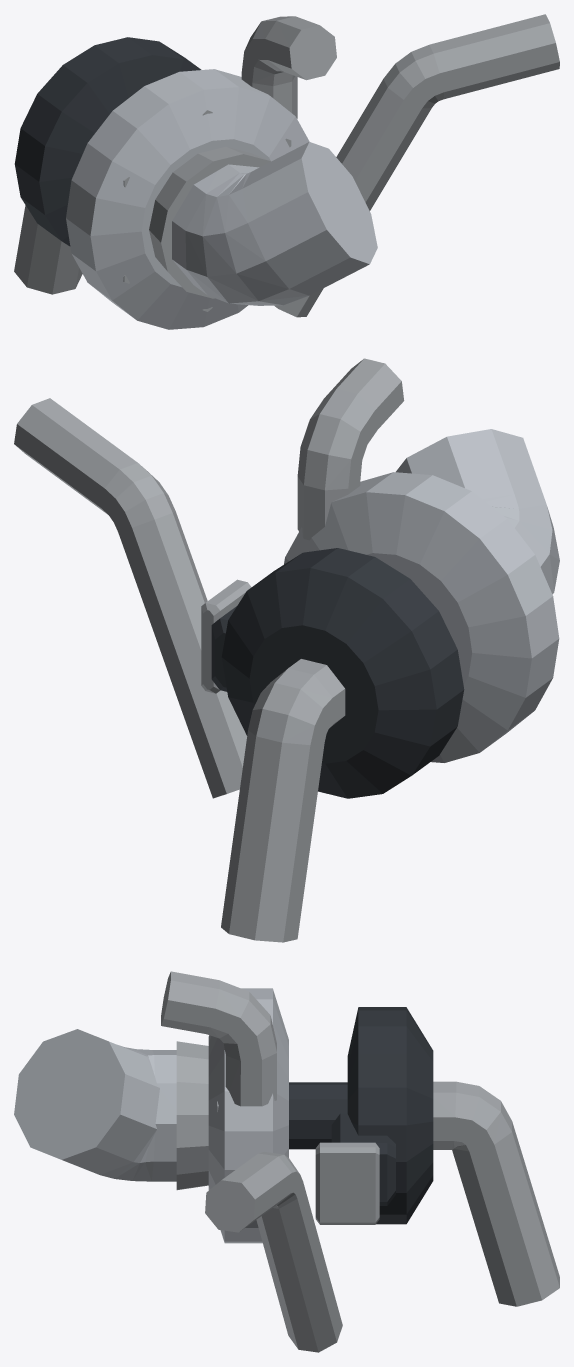
Rendered from brute_500.glb.
3 renders of one model, top to bottom at view 1: azimuth 30°, elevation 25°; view 2: azimuth 150°, elevation 25°; view 3: azimuth 270°, elevation 25°, orthographic. The views are drawn at different scales.
Parts seen in each view (by area): view 1: model; view 2: model; view 3: model.
Part boxes in pixels (x1,y1,x2,y2): model: [14, 14, 559, 329]; model: [14, 358, 559, 942]; model: [14, 971, 559, 1352].
Size of the model in its own units: 0.5013 by 0.3714 by 0.5105.
2 materials, 1 textured.
